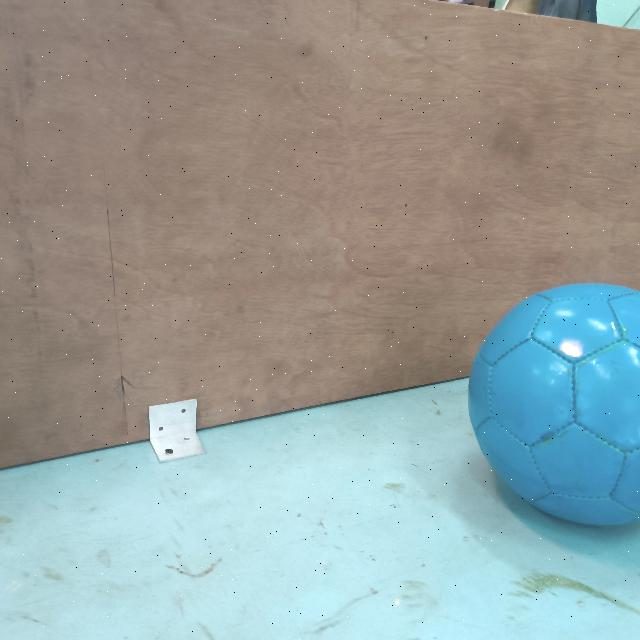B: (464, 279, 640, 531)
